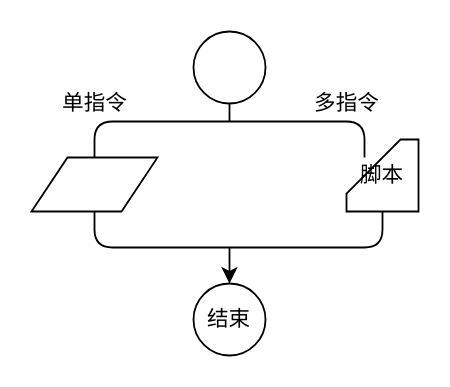
Some shapes in this 450 by 387 pixel diagram are drawn without their labels. Each missing label, with the centre of its shape:
"开始" goes at pixel 229 67.
"执行" goes at pixel 94 184.
